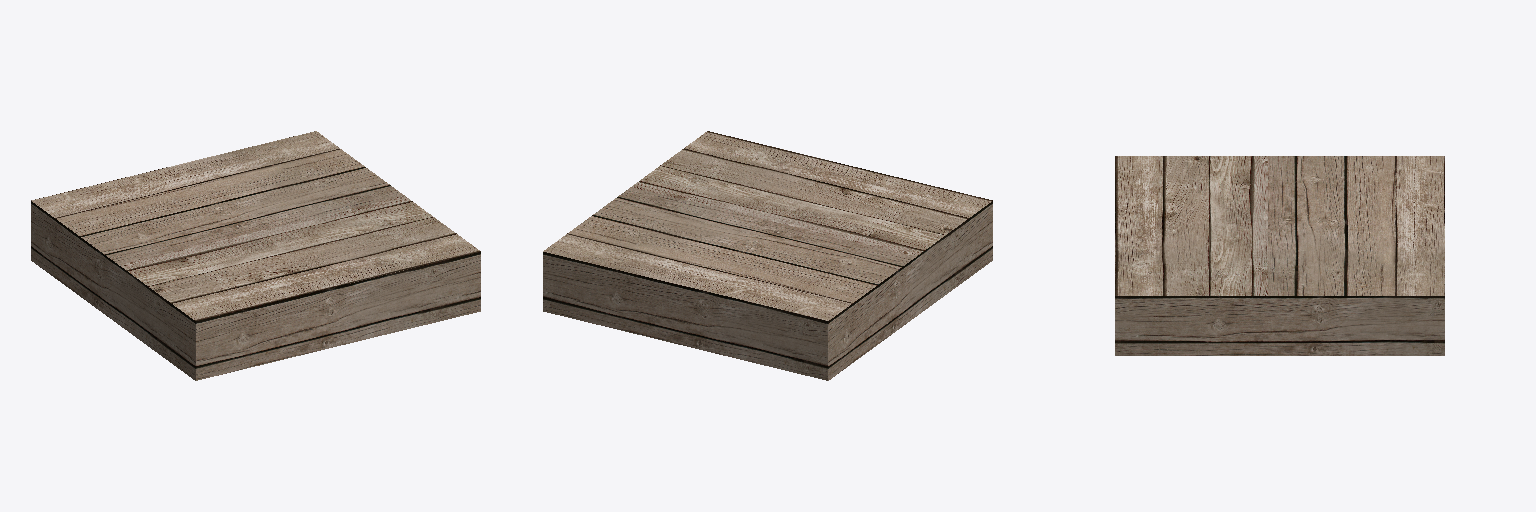
The picture shows the model from 3 angles: view 1: azimuth 30°, elevation 25°; view 2: azimuth 150°, elevation 25°; view 3: azimuth 270°, elevation 25°; orthographic projection.
Visible parts, largest first — view 1: Box01; view 2: Box01; view 3: Box01.
Boxes of the visible parts, box(x1,y1,x2,y2) form: Box01: box(31, 131, 480, 380); Box01: box(543, 131, 992, 380); Box01: box(1115, 156, 1444, 355).
Size of the model in its own units: 10 by 2 by 10.
Materials: 1 (1 with a texture image).